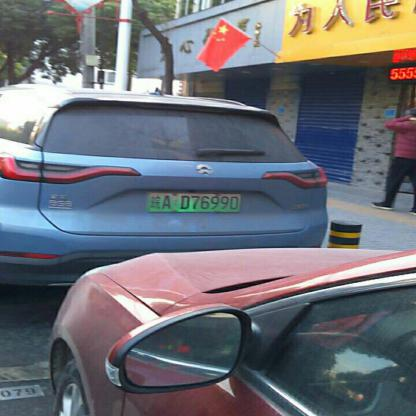lp: (145, 190, 242, 212)
